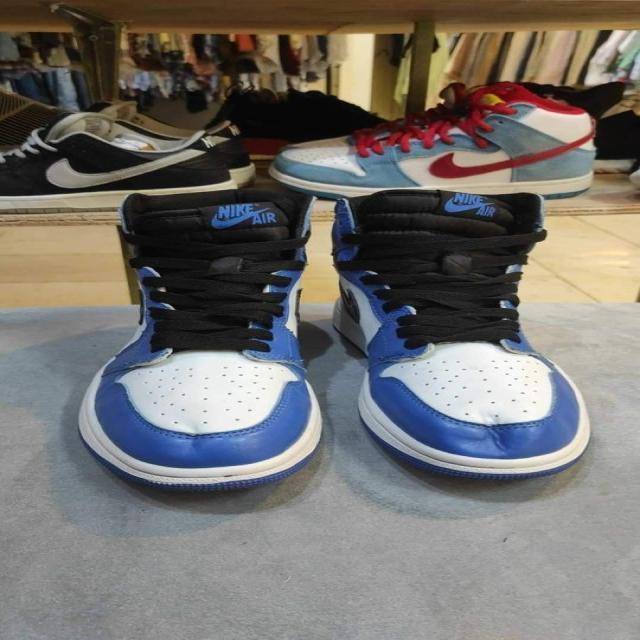nike fake jordan 1: (330, 188, 596, 480), (72, 186, 322, 494)
